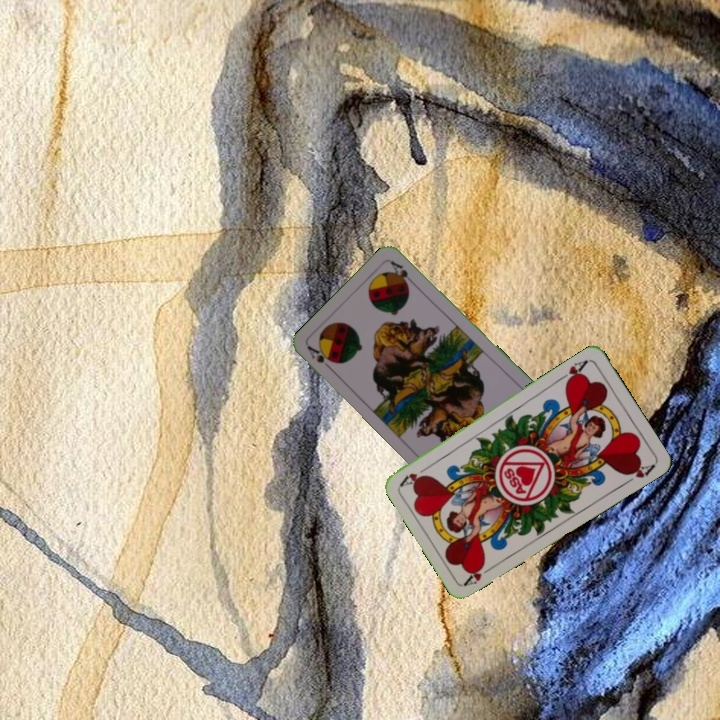HA: (555, 355, 591, 388), (460, 559, 498, 588)
SA: (303, 342, 336, 374)
